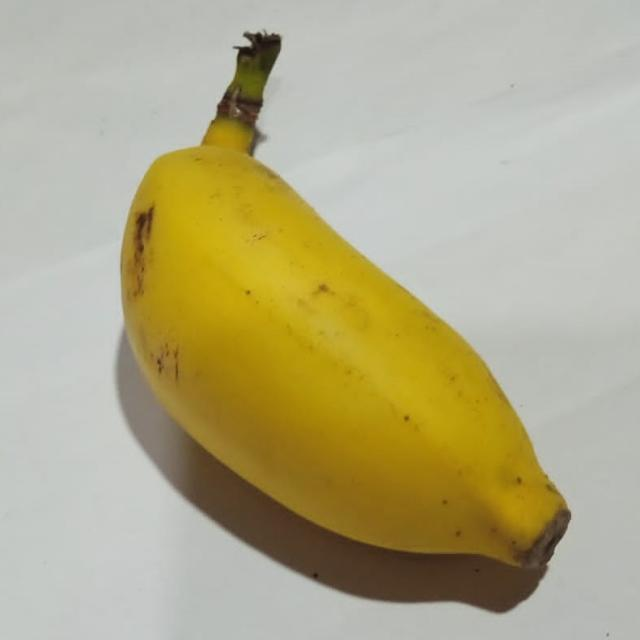banana: (122, 35, 569, 566)
